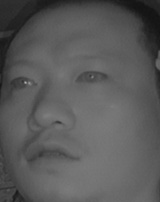eye: (75, 65, 108, 87), (8, 73, 38, 93)
mouth: (20, 134, 85, 170)
